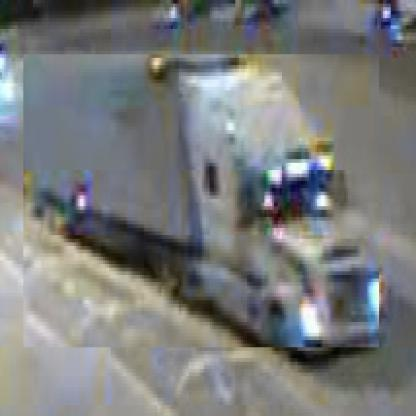container: (24, 55, 382, 352)
